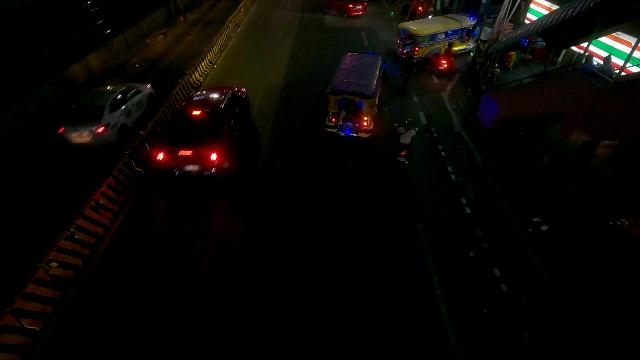car: (58, 81, 156, 146), (319, 0, 368, 19)
jeepney: (326, 52, 383, 136), (393, 12, 479, 67)
motorcycle: (391, 118, 416, 170)
truck: (149, 85, 250, 175)
